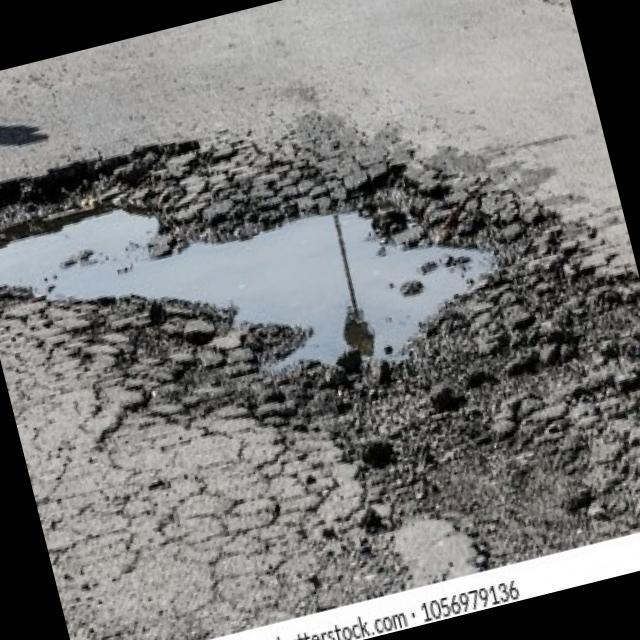Pothole: (0, 63, 519, 456)
